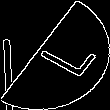L_NW: (20, 28, 90, 82)
